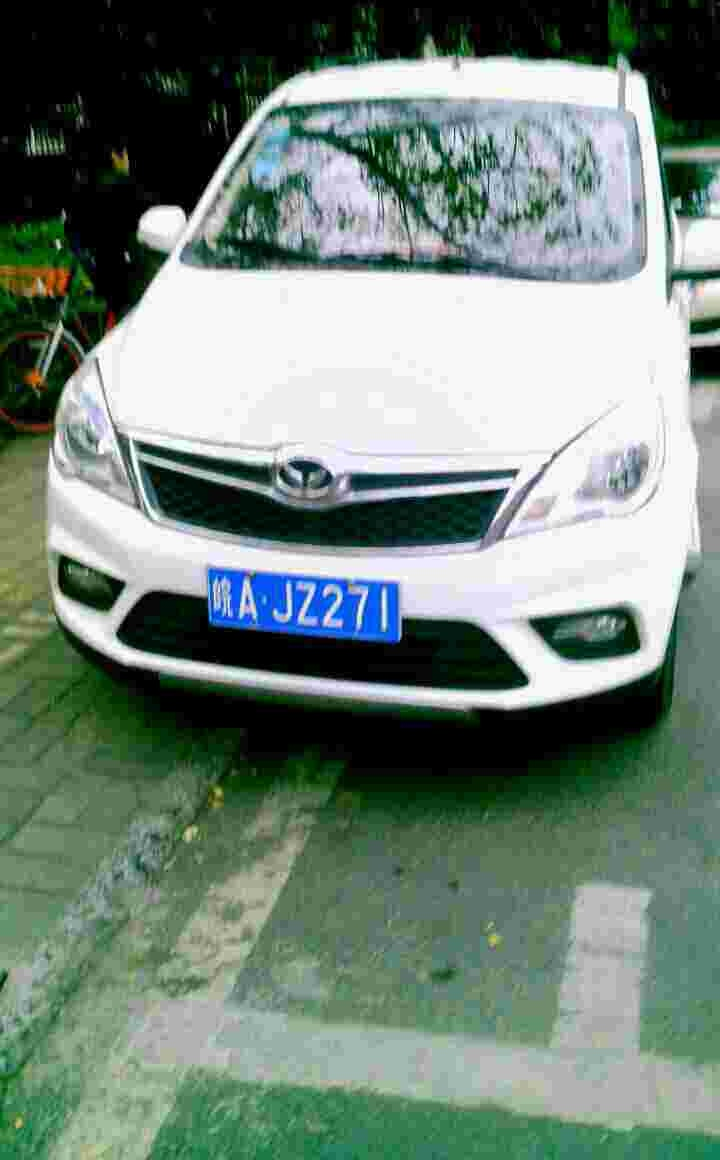car: (194, 562, 414, 654)
